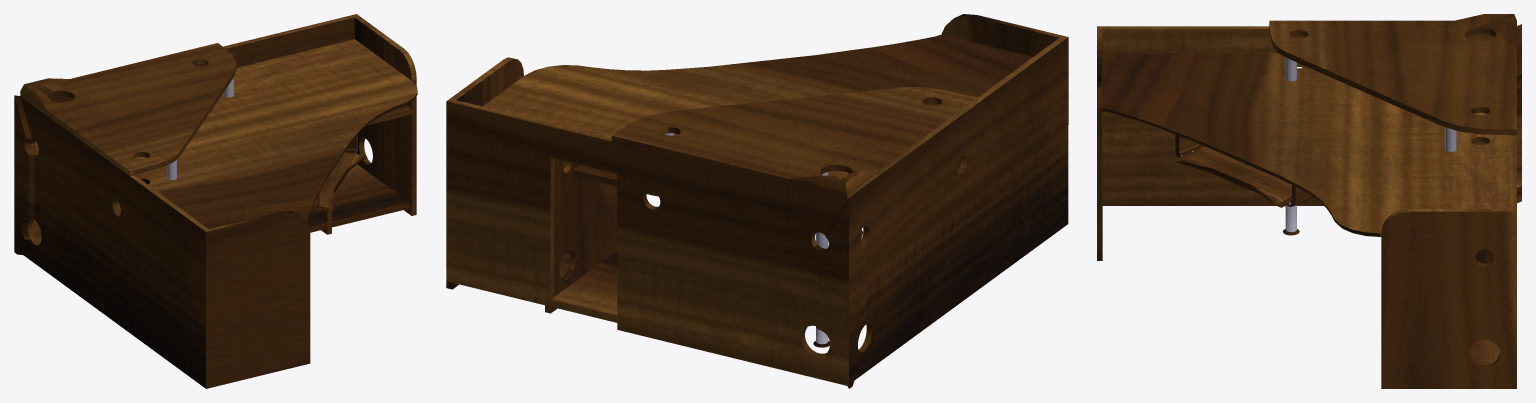
Rendered from table.glb.
3 views of the same model, side by side, from view 1: azimuth 30°, elevation 25°; view 2: azimuth 150°, elevation 25°; view 3: azimuth 270°, elevation 25° (orthographic). The views are drawn at different scales.
Visible parts, largest first — view 1: Stol, Platforma01; view 2: Stol; view 3: Stol, Platforma01.
Boxes of the visible parts, x1,y1,x2,y2 form: Stol: [14, 14, 417, 388]; Platforma01: [319, 152, 366, 211]; Stol: [446, 14, 1068, 388]; Stol: [1097, 14, 1521, 388]; Platforma01: [1174, 146, 1291, 207].
Bounding box in the file's own units: 202 × 95.81 × 193.
2 materials, 2 textured.
